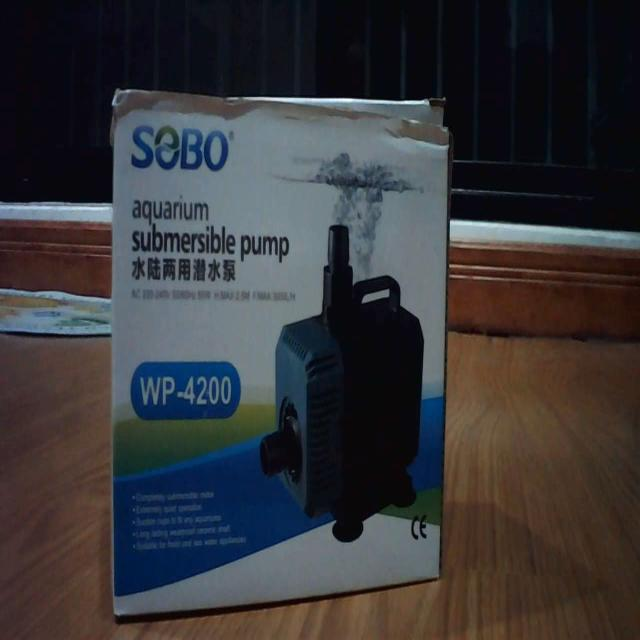SOBO_WP_4200: (98, 56, 460, 630)
